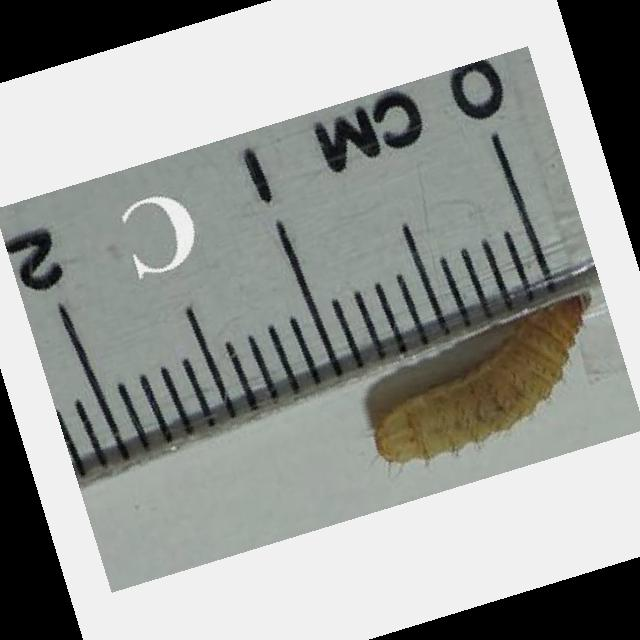Maggot: (375, 295, 596, 467)
